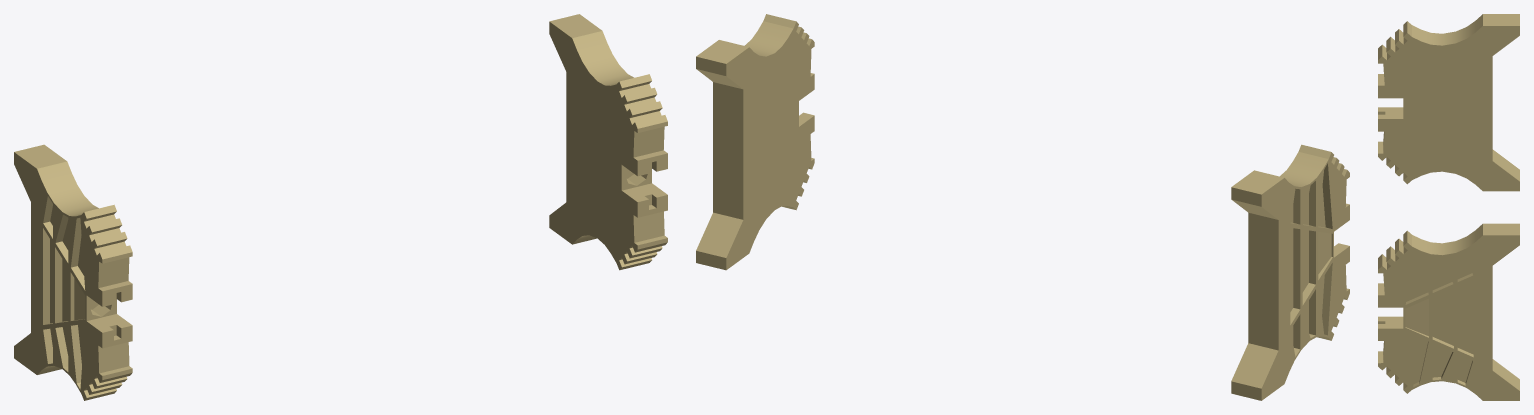
File: SpacerTop.FBX
The picture shows the model from 3 angles, left to right: view 1: azimuth 30°, elevation 25°; view 2: azimuth 150°, elevation 25°; view 3: azimuth 270°, elevation 25°; orthographic projection. The views are drawn at different scales.
Visible parts, largest first — view 1: SpacerTop; view 2: SpacerTop; view 3: SpacerTop.
Part boxes in pixels (x1,y1,x2,y2): SpacerTop: (14, 14, 667, 400); SpacerTop: (696, 14, 1349, 400); SpacerTop: (1378, 14, 1519, 400).
Bounding box in the file's own units: 17.19 × 5.99 × 4.66.
